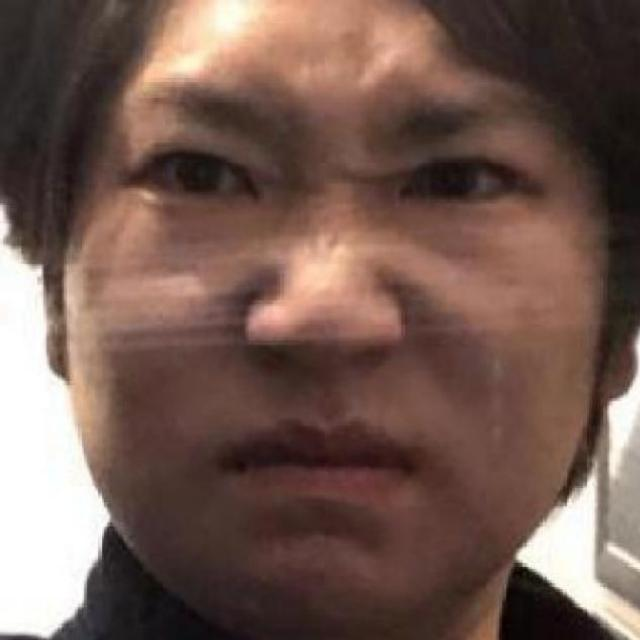Angry: (60, 74, 638, 640)
